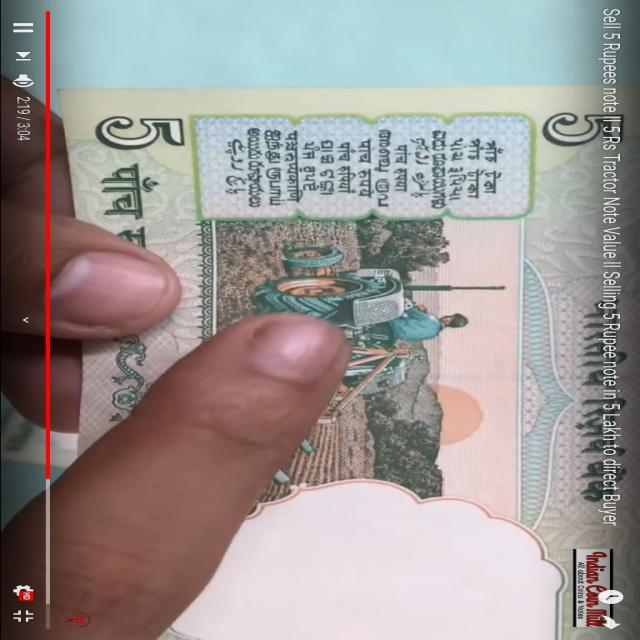5IndianRupees: (73, 92, 618, 633)
